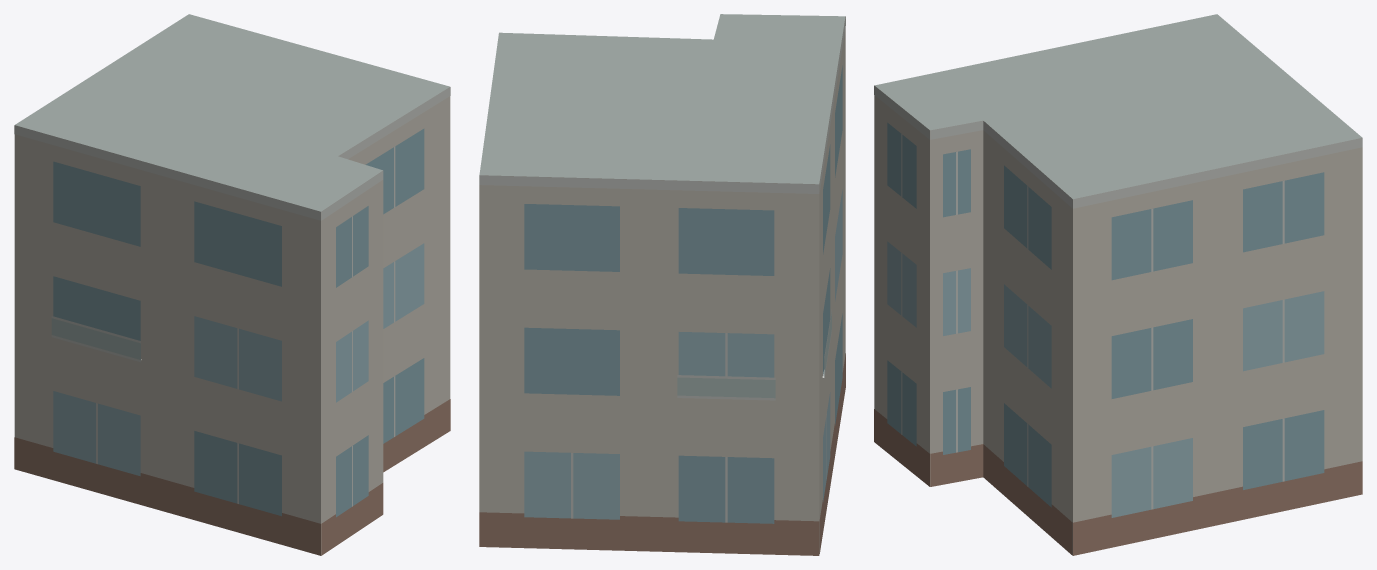
Rendered from survey-upis-32719303.glb.
3 renders of one model, left to right at view 1: azimuth 30°, elevation 25°; view 2: azimuth 150°, elevation 25°; view 3: azimuth 270°, elevation 25°, orthographic. The views are drawn at different scales.
Parts seen in each view (by area): view 1: survey-upis-32719303.tmp; view 2: survey-upis-32719303.tmp; view 3: survey-upis-32719303.tmp.
Part boxes in pixels (box(x1,y1,x2,y2)): survey-upis-32719303.tmp: box(14, 14, 450, 555); survey-upis-32719303.tmp: box(479, 14, 845, 555); survey-upis-32719303.tmp: box(874, 14, 1362, 555).
Size of the model in its own units: 10.2 by 9.15 by 11.36.
